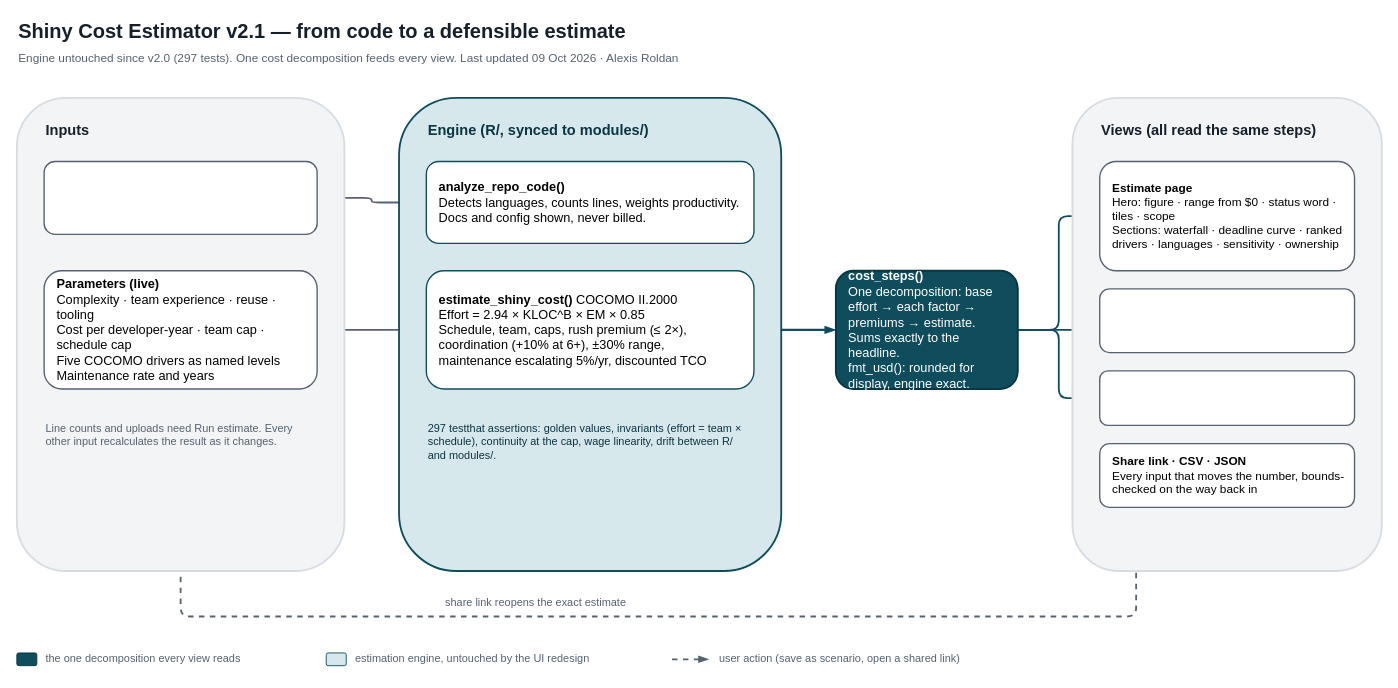
Some shapes in this 1398 by 688 pixel diagram are drawn without their labels. Each missing label, with the box of its shape:
PDF report Quarto + Typst Same tokens, fonts, steps and rounding: (1099, 370, 1355, 426)
Scenarios Up to 3 saved from the estimate, editable, aligned bars + table: (1099, 288, 1355, 353)
Where is the code? Manual line counts · ZIP upload (50 MB) · Local folder: (43, 160, 317, 235)
